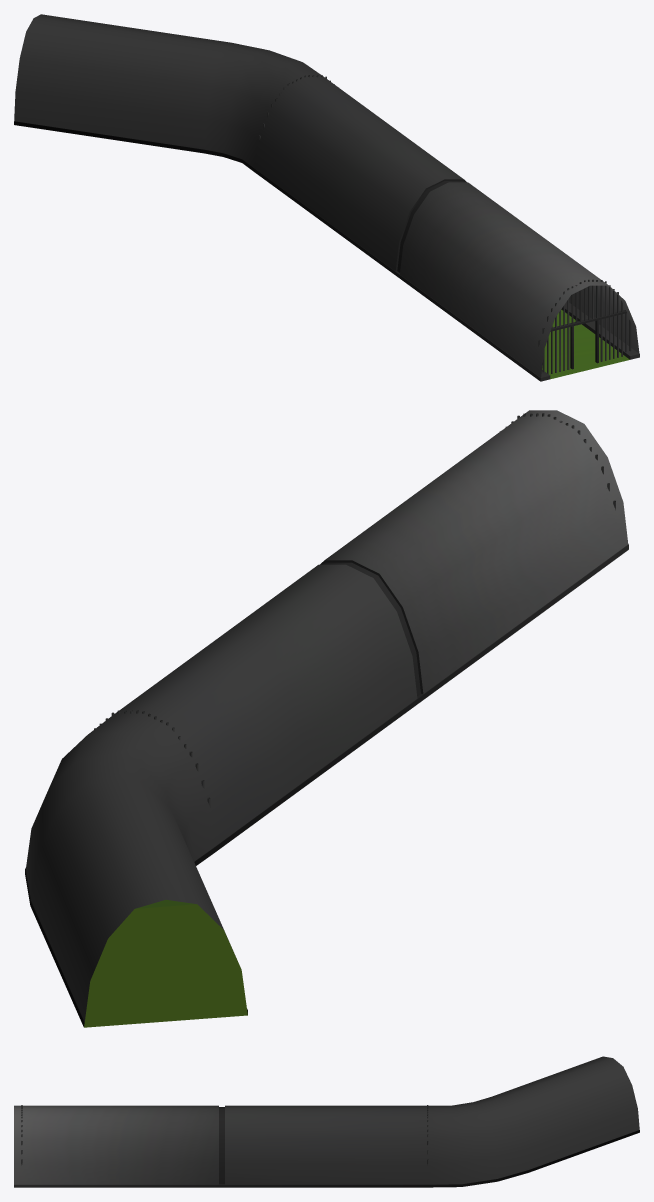
The model's file is SewerScene_V1.FBX.
3 renders of one model, top to bottom at view 1: azimuth 30°, elevation 25°; view 2: azimuth 150°, elevation 25°; view 3: azimuth 270°, elevation 25°, orthographic. The views are drawn at different scales.
Parts seen in each view (by area): view 1: Sewer Tunnel; view 2: Sewer Tunnel; view 3: Sewer Tunnel.
Boxes of the visible parts, x1,y1,x2,y2 form: Sewer Tunnel: [14, 14, 639, 381]; Sewer Tunnel: [25, 410, 628, 1027]; Sewer Tunnel: [14, 1056, 639, 1187].
Size of the model in its own units: 1827 by 642 by 5903.
1 material, 1 textured.
